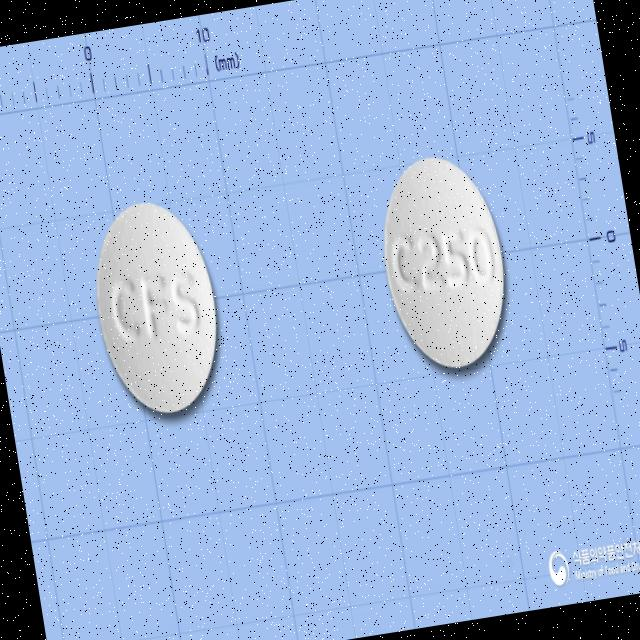Cipaxin: (366, 142, 524, 388), (78, 189, 237, 430)
